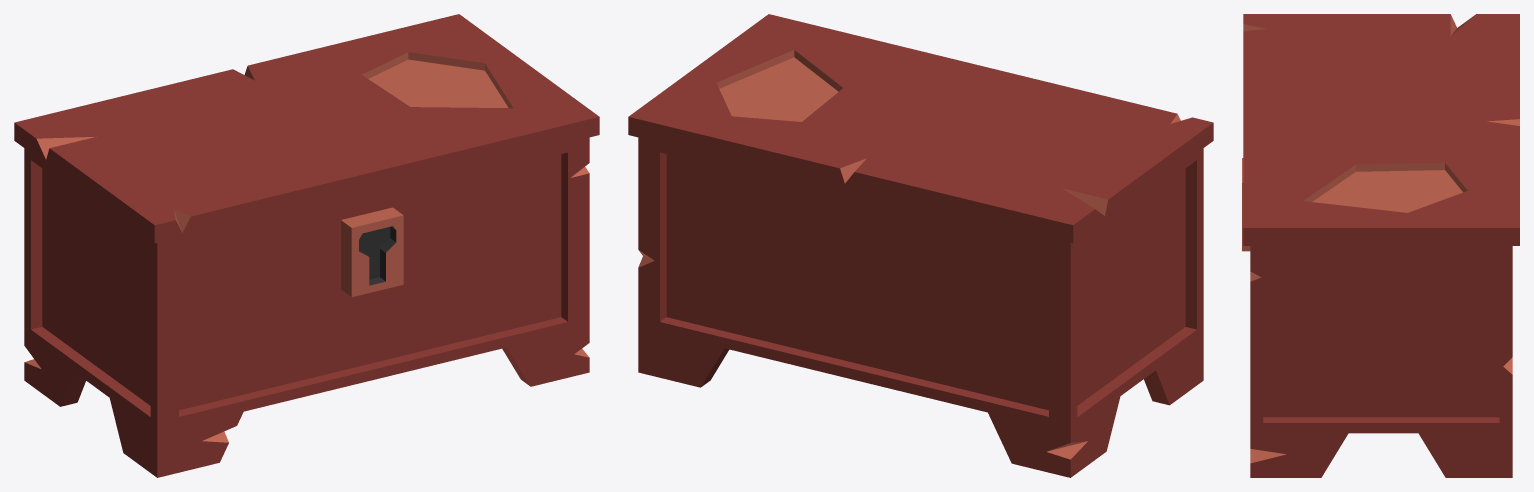
Rendered from Box_4_Red.fbx.
The picture shows the model from 3 angles, left to right: view 1: azimuth 30°, elevation 25°; view 2: azimuth 150°, elevation 25°; view 3: azimuth 270°, elevation 25°; orthographic projection.
Visible parts, largest first — view 1: Box_4_Red_Part_1, Box_4_Red_Part_2, Box_4_Red_Part_3; view 2: Box_4_Red_Part_1, Box_4_Red_Part_2; view 3: Box_4_Red_Part_1, Box_4_Red_Part_2.
Boxes of the visible parts, x1,y1,x2,y2 form: Box_4_Red_Part_1: [14, 14, 599, 477]; Box_4_Red_Part_2: [25, 52, 589, 442]; Box_4_Red_Part_3: [359, 226, 396, 285]; Box_4_Red_Part_1: [628, 14, 1213, 477]; Box_4_Red_Part_2: [638, 50, 1180, 459]; Box_4_Red_Part_1: [1243, 14, 1519, 477]; Box_4_Red_Part_2: [1242, 14, 1519, 463].
Bounding box in the file's own units: 92.6 × 51.09 × 50.81.
